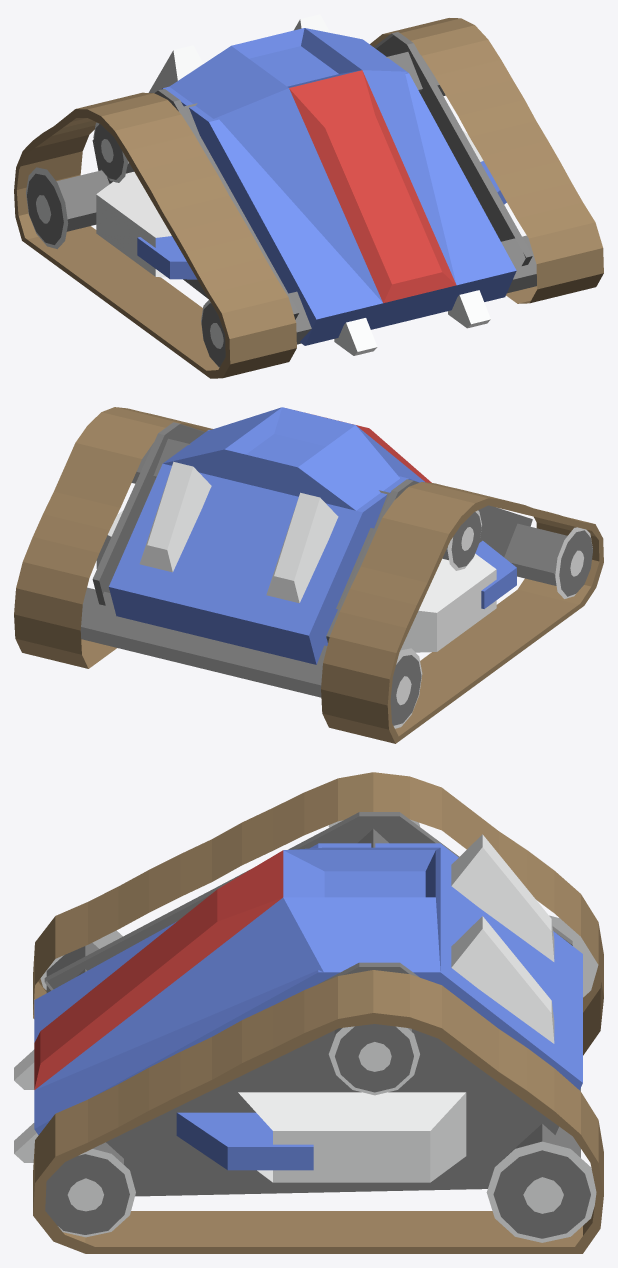
Rendered from Leg.fbx.
The picture shows the model from 3 angles, top to bottom: view 1: azimuth 30°, elevation 25°; view 2: azimuth 150°, elevation 25°; view 3: azimuth 270°, elevation 25°; orthographic projection. The views are drawn at different scales.
Parts seen in each view (by area): view 1: Leg; view 2: Leg; view 3: Leg.
Boxes of the visible parts, <box> form: Leg: <box>14,14,603,378</box>; Leg: <box>14,407,603,743</box>; Leg: <box>14,772,603,1253</box>.
Size of the model in its own units: 0.6753 by 0.3425 by 0.6994.
